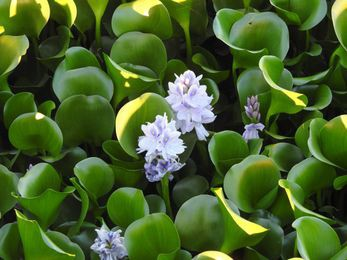water_hyacinth: (0, 0, 347, 258)
